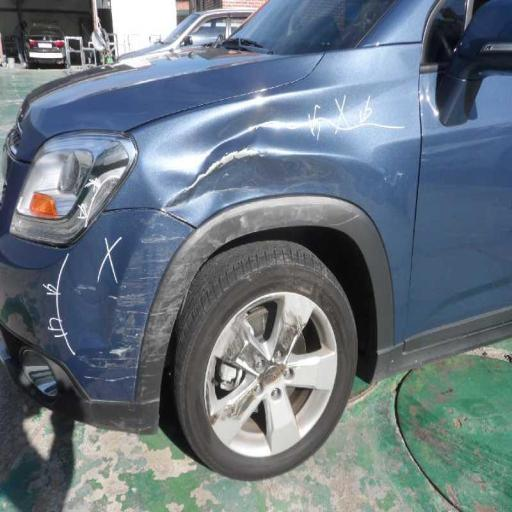dent: (146, 108, 413, 244)
scratch: (49, 214, 191, 427)
